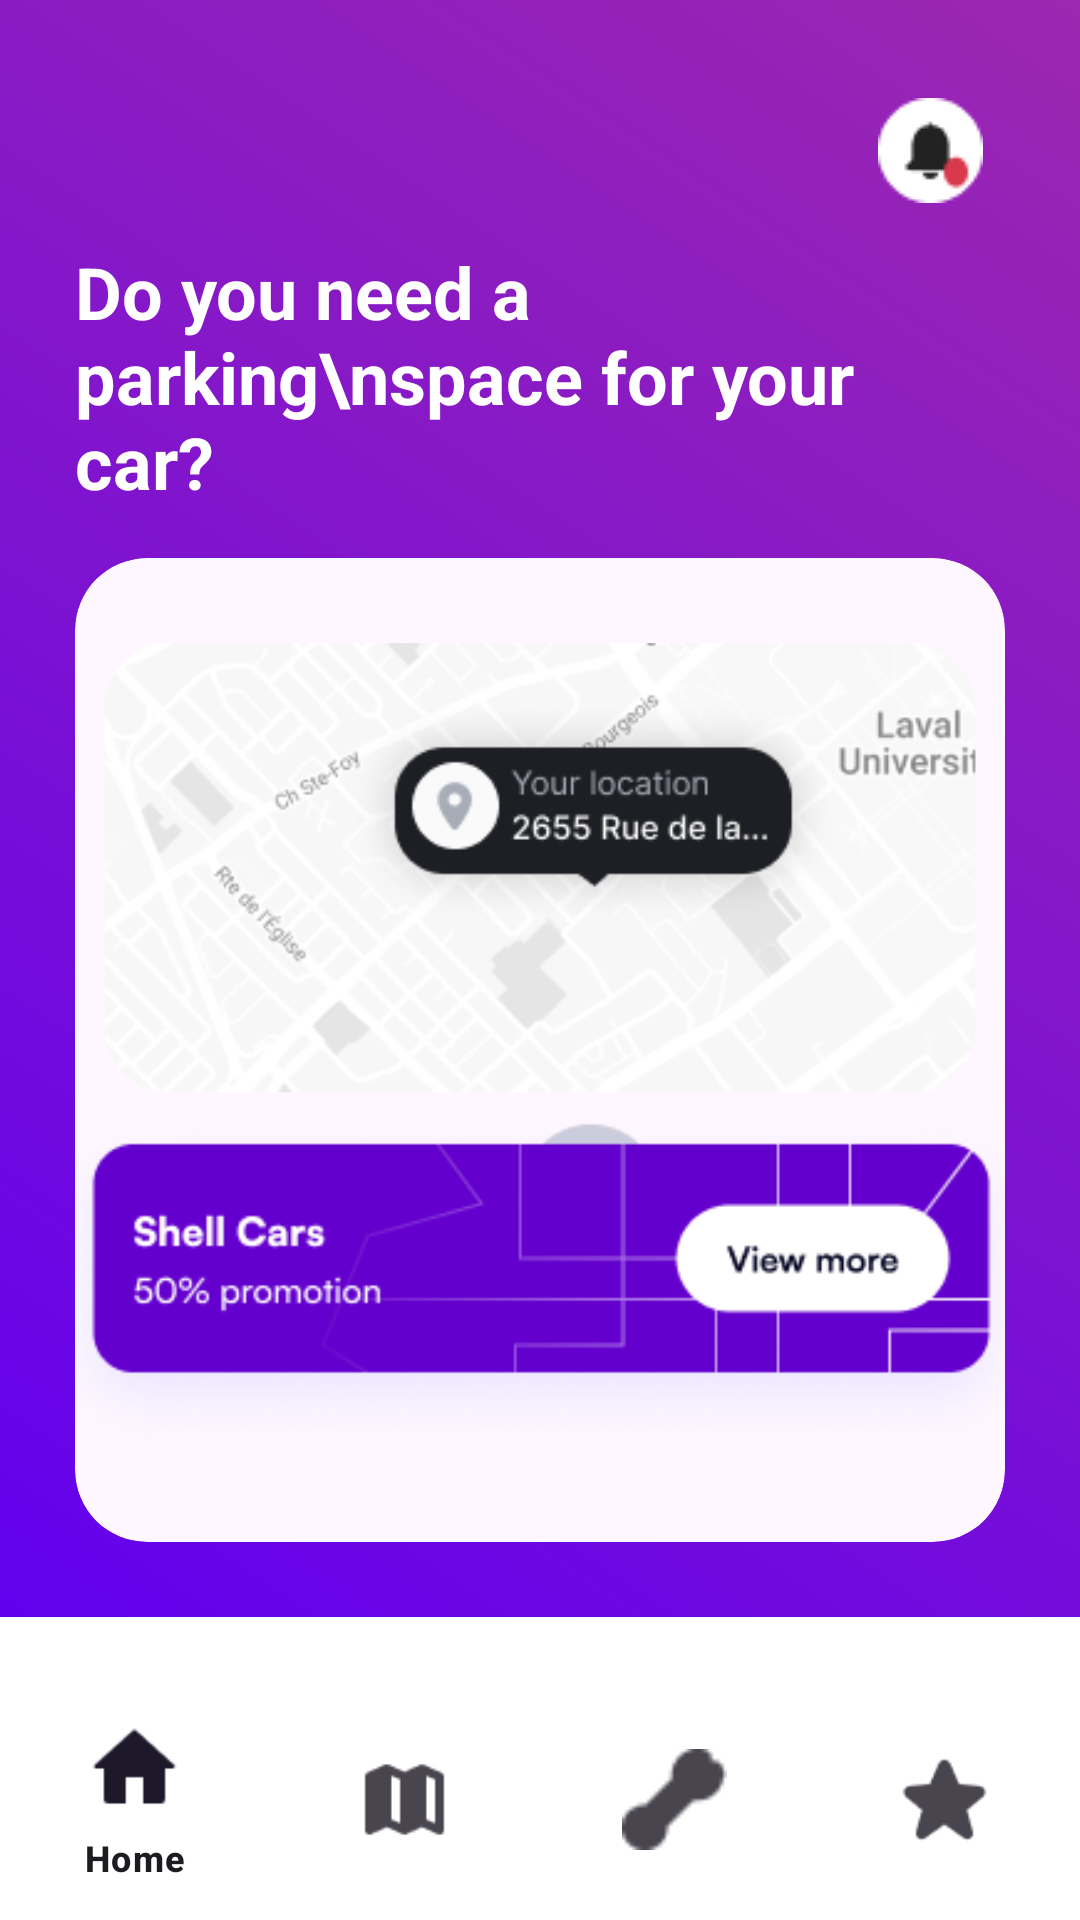

Locate icon controls on the screen. Image size 1080w x 1920h, boxes as (x1, y1, x2, y2).
notification: (878, 98, 983, 203)
